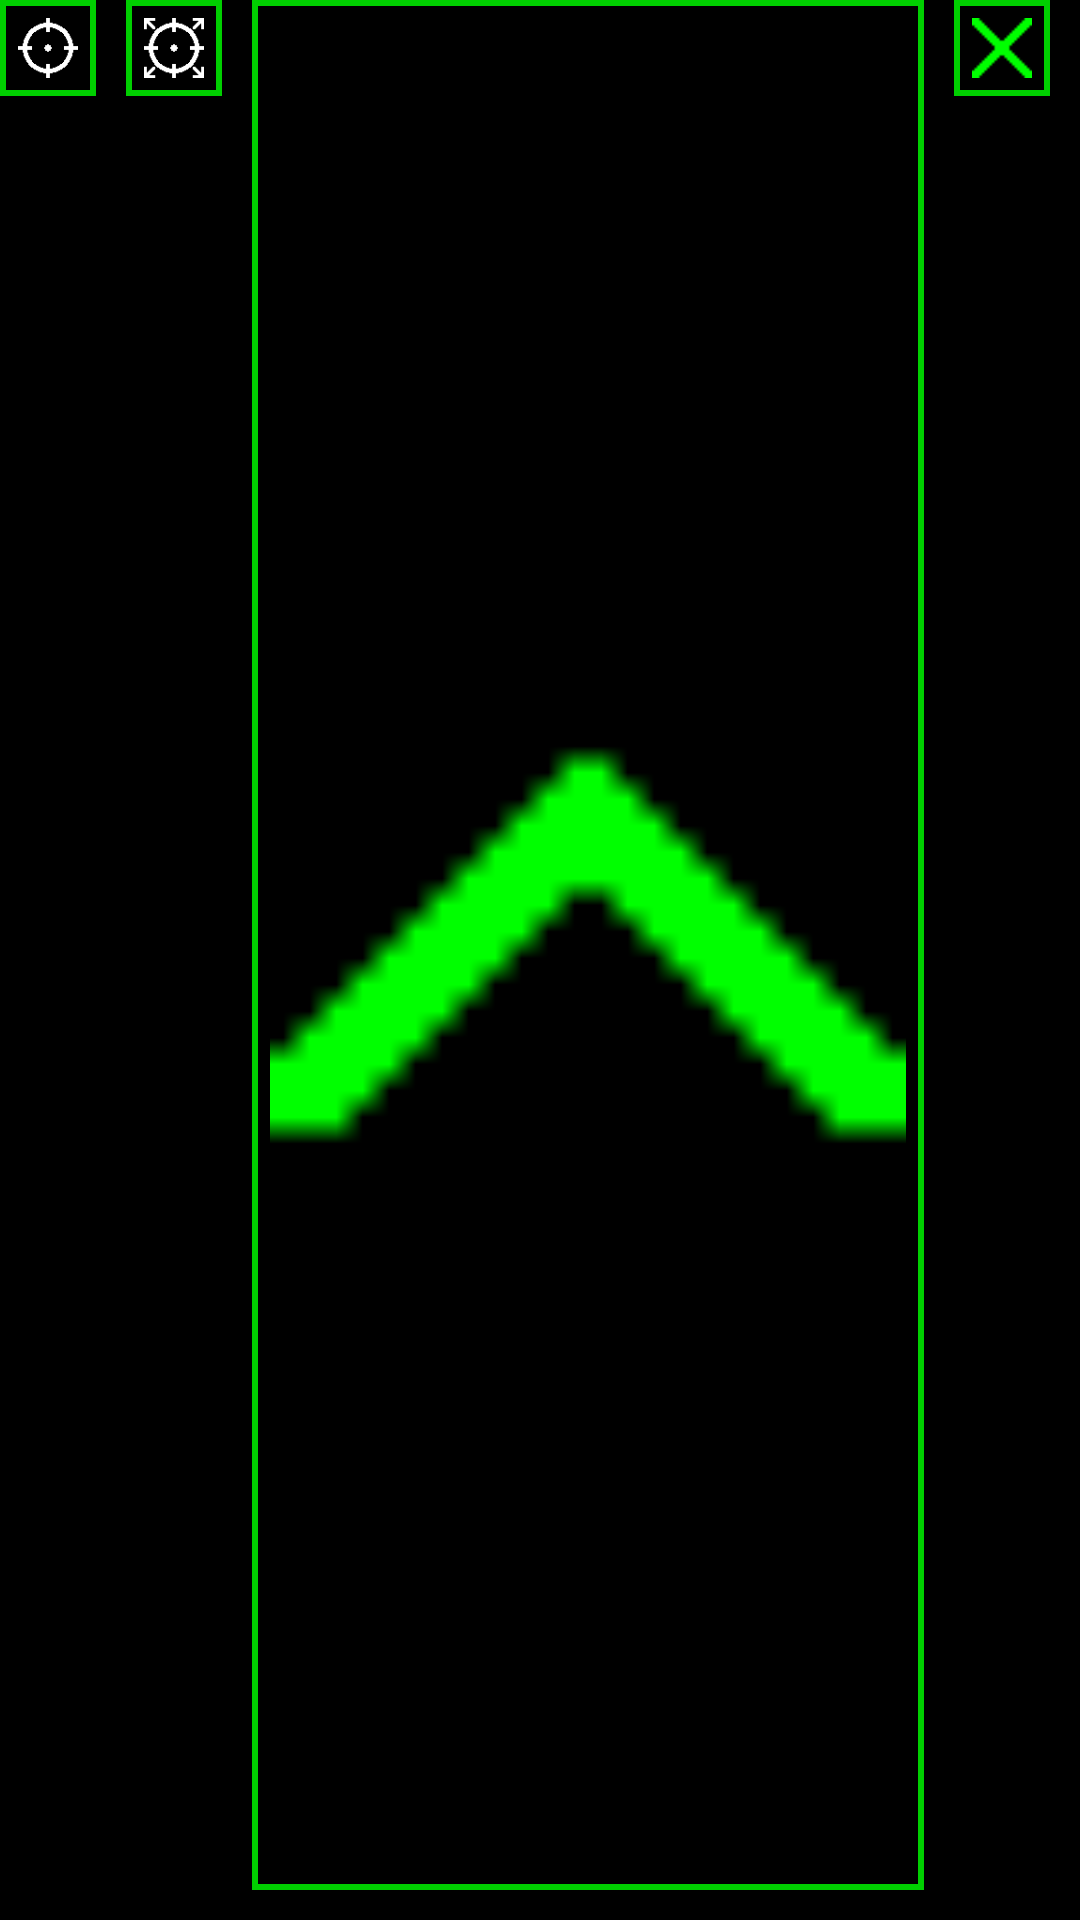

Named icons in this screenshot (1080px×1920px) and their centers, (x=x, y=y):
close: (x=1002, y=48)
location: (x=48, y=48)
